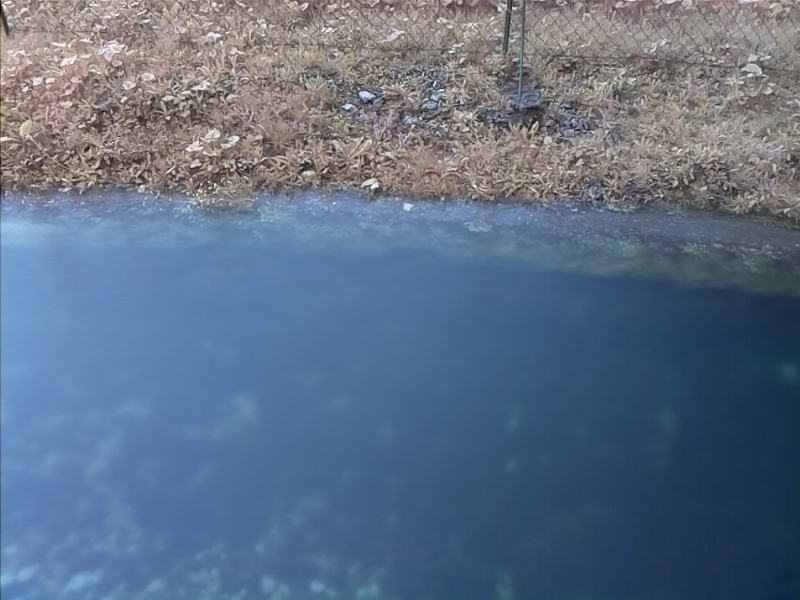Water: (1, 188, 800, 599)
